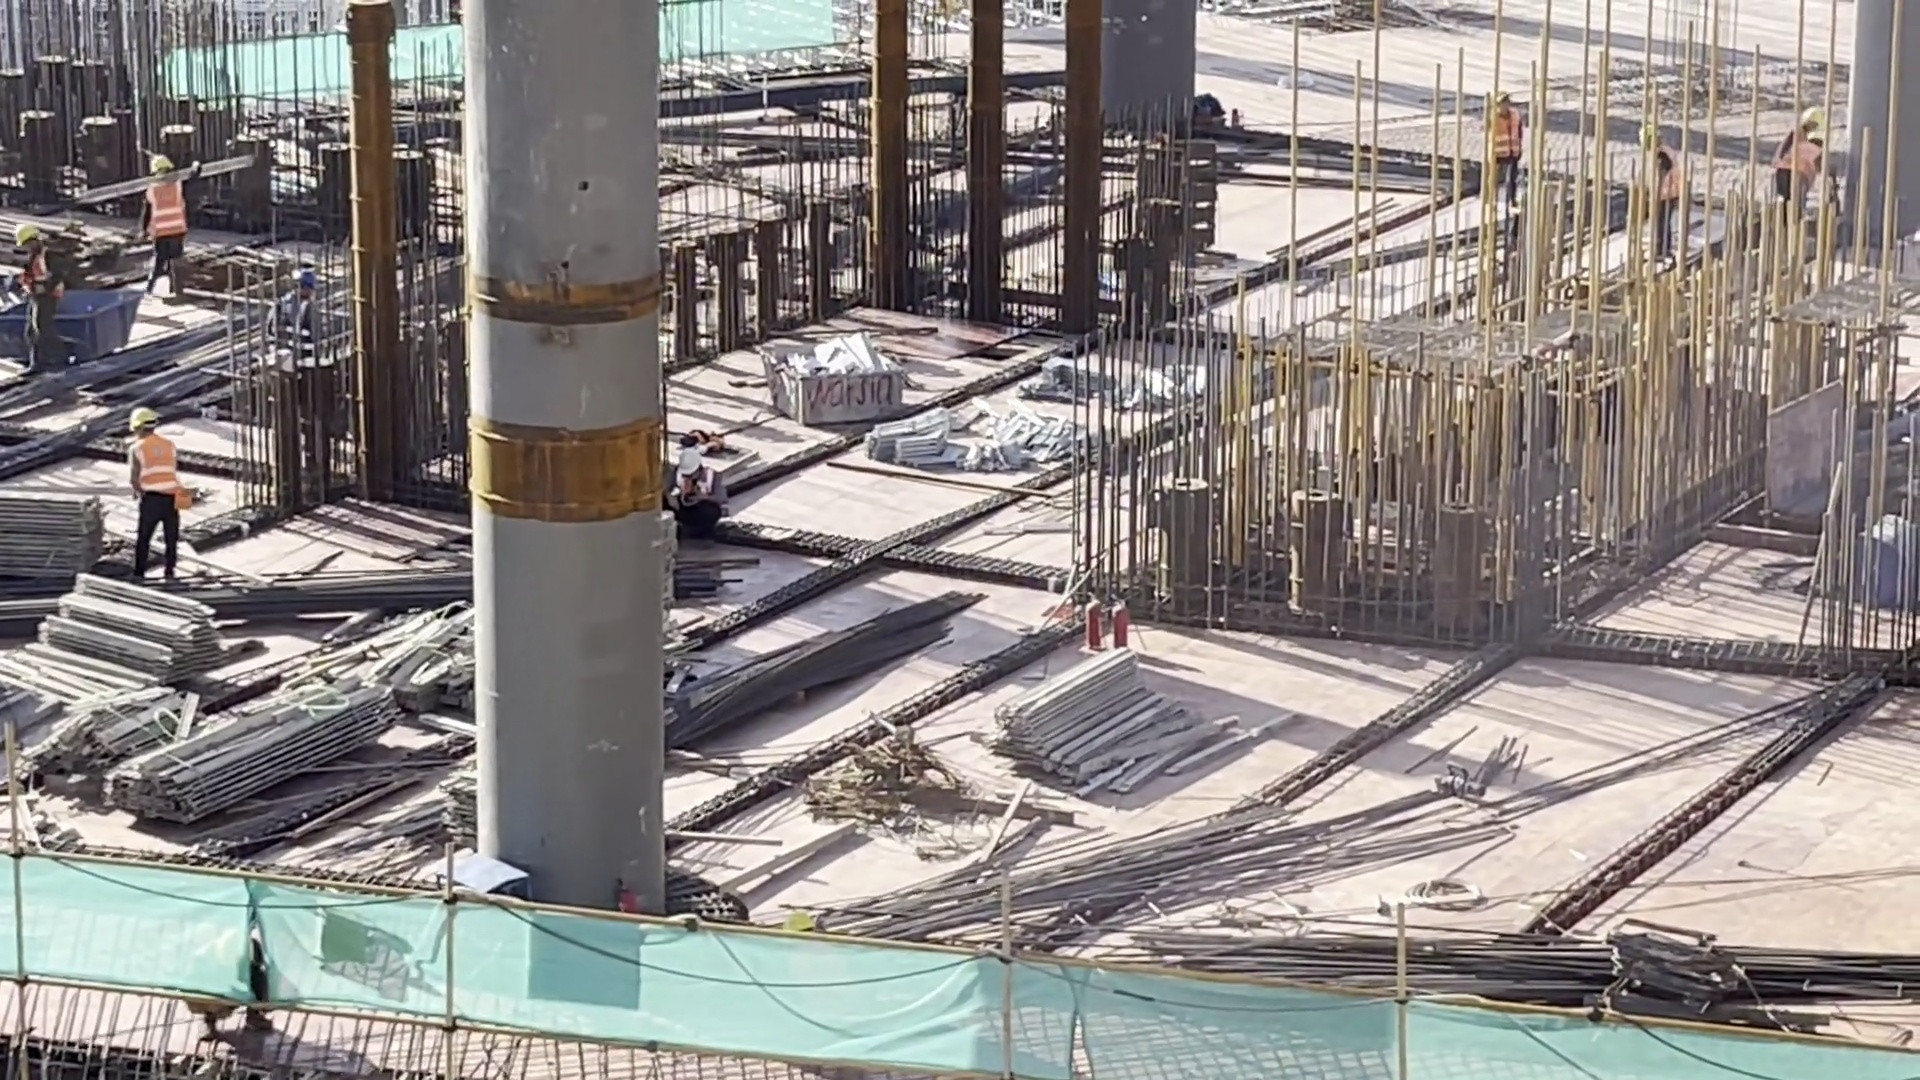helmet: (10, 213, 47, 253), (1637, 106, 1669, 149), (125, 395, 162, 434), (147, 143, 174, 176), (688, 445, 707, 485)
person: (107, 405, 196, 579), (3, 193, 71, 346), (647, 434, 741, 545), (1625, 128, 1703, 249), (1480, 90, 1548, 226), (1775, 94, 1837, 243), (130, 154, 196, 286)
vest: (128, 432, 178, 502), (1781, 126, 1822, 193), (141, 174, 185, 228), (10, 248, 52, 294), (1488, 101, 1512, 149)
